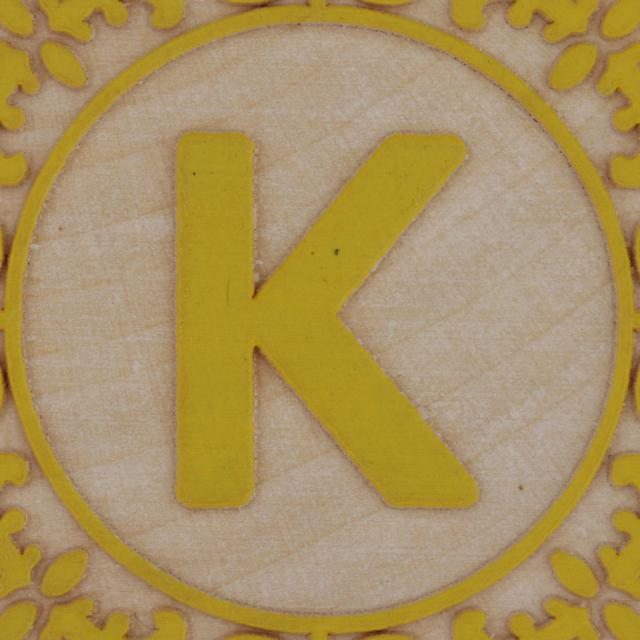K: (133, 106, 495, 548)
